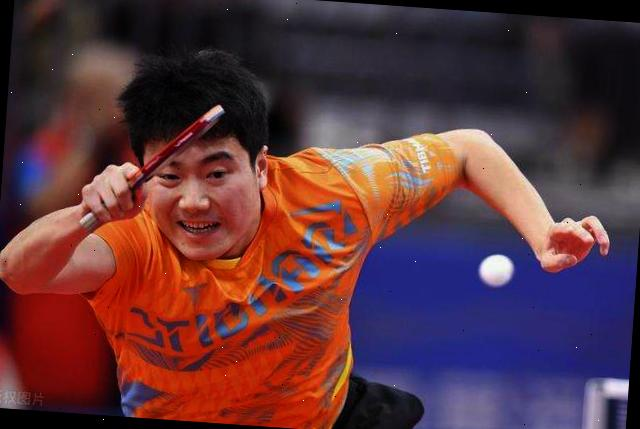ball: (473, 247, 519, 290)
